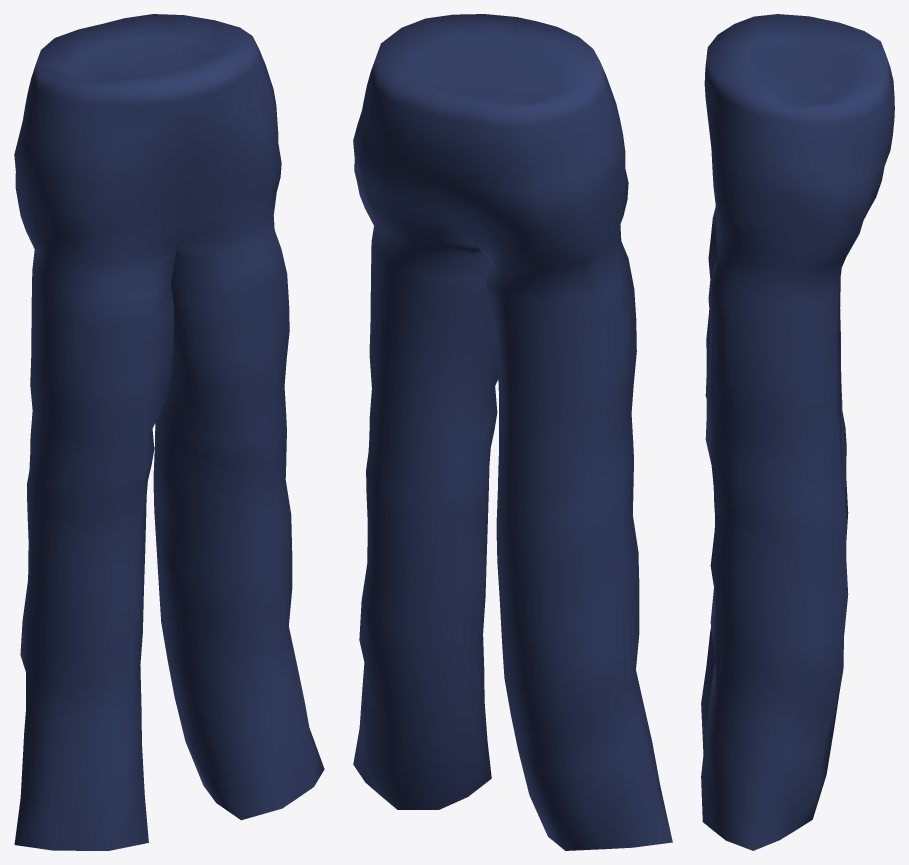
The model's file is f_pants_01.fbx.
The picture shows the model from 3 angles, left to right: view 1: azimuth 30°, elevation 25°; view 2: azimuth 150°, elevation 25°; view 3: azimuth 270°, elevation 25°; orthographic projection. The views are drawn at different scales.
Visible parts, largest first — view 1: f_pants_01; view 2: f_pants_01; view 3: f_pants_01.
Part boxes in pixels (bbox=[...]): f_pants_01: bbox=[14, 14, 324, 850]; f_pants_01: bbox=[353, 14, 672, 850]; f_pants_01: bbox=[701, 14, 894, 850].
Size of the model in its own units: 42.05 by 96.83 by 23.41.
